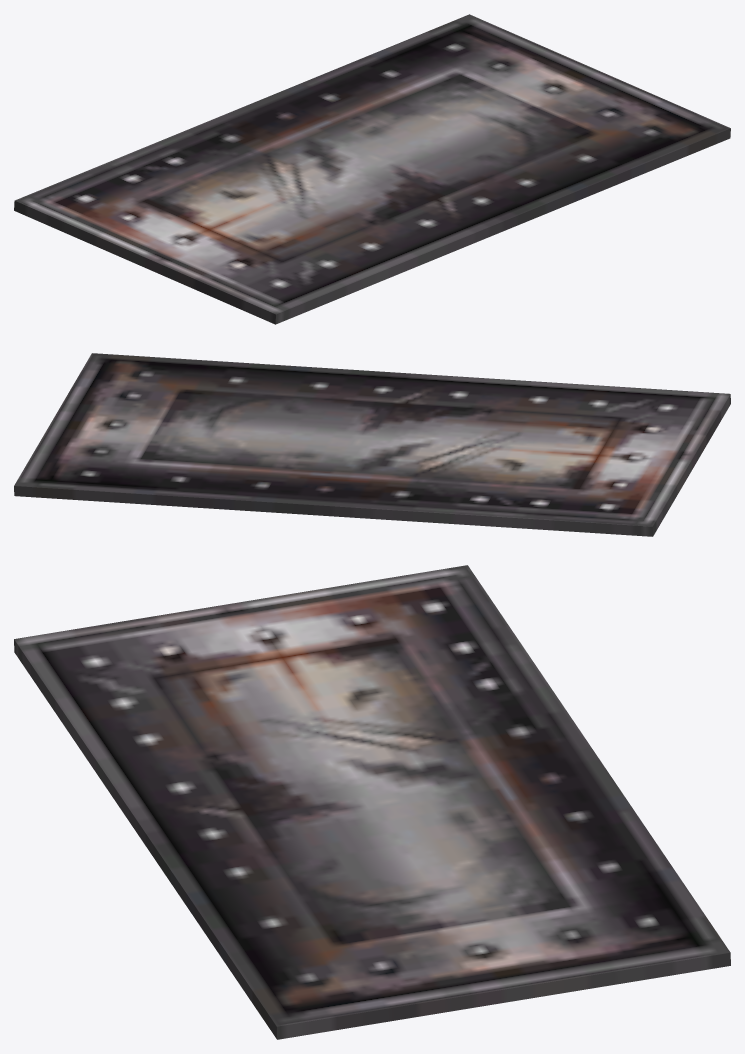
The model's file is battlegladeshield1.obj.
3 views of the same model, one above another, from view 1: azimuth 30°, elevation 25°; view 2: azimuth 150°, elevation 25°; view 3: azimuth 270°, elevation 25° (orthographic). The views are drawn at different scales.
Bounding box in the file's own units: 1.66 × 0.1049 × 1.2.
Materials: 1 (1 with a texture image).
